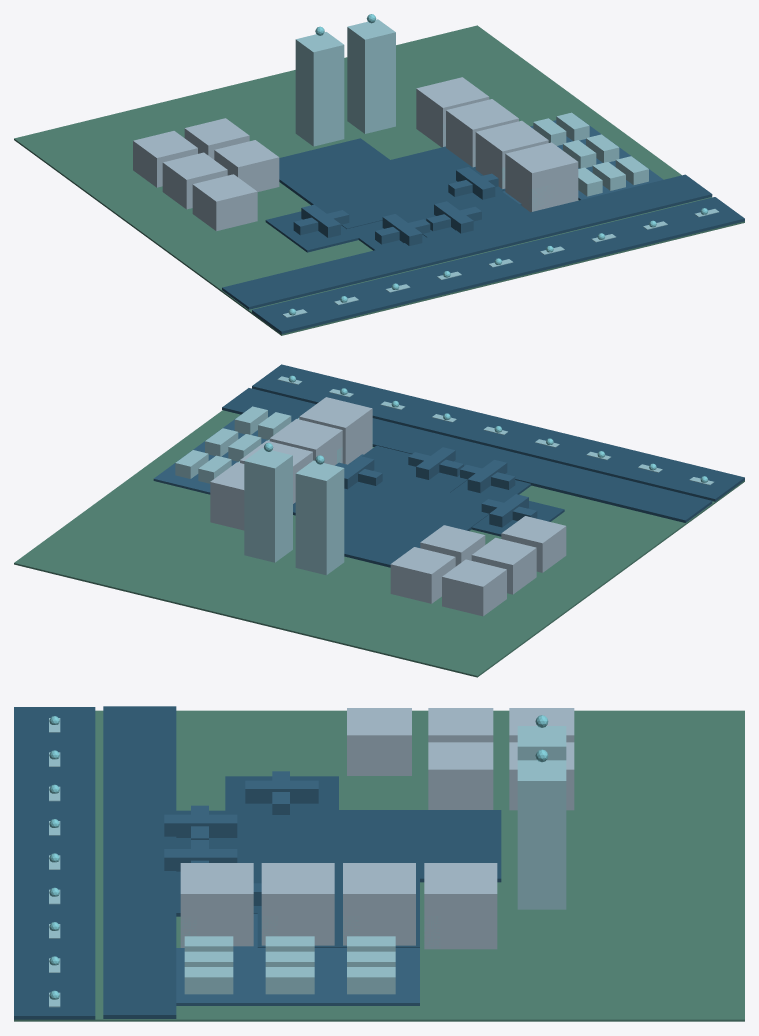
File: stage_25.glb
3 renders of one model, top to bottom at view 1: azimuth 30°, elevation 25°; view 2: azimuth 150°, elevation 25°; view 3: azimuth 270°, elevation 25°, orthographic. The views are drawn at different scales.
Visible parts, largest first — view 1: geometry_0; view 2: geometry_0; view 3: geometry_0.
Boxes of the visible parts, x1=… form: geometry_0: x1=14, y1=14, x2=744, y2=335; geometry_0: x1=14, y1=364, x2=744, y2=677; geometry_0: x1=14, y1=706, x2=744, y2=1021.
Size of the model in its own units: 9 by 2.06 by 9.
